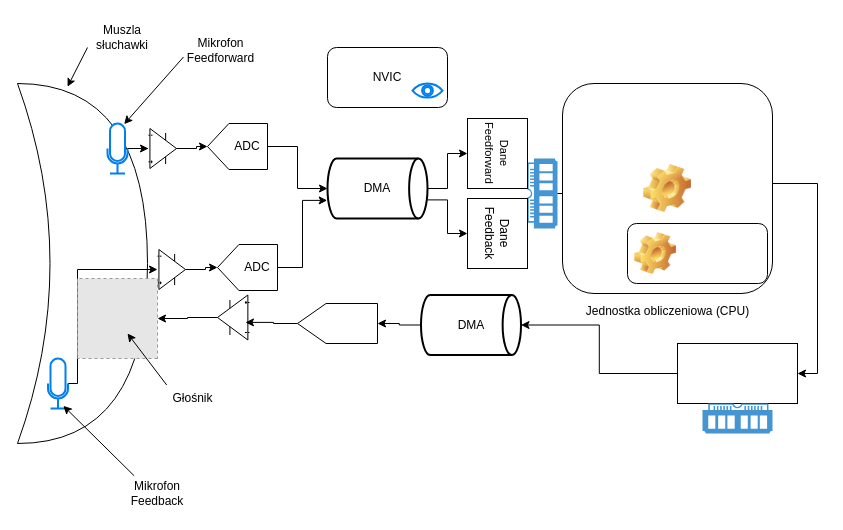
The diagram is 843 pixels wide and 530 high, and some of its shapes have lost their labels. Grey dashed boxes stand in for pictures. The shapes that lost their labels are listed below. From the top down, each one's centre as x and y in pixels, then its label:
At (x=697, y=253): "FPU".
At (x=337, y=323): "DAC".
At (x=737, y=373): "Dane obliczone".
